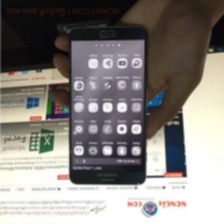phone: (65, 23, 151, 188)
